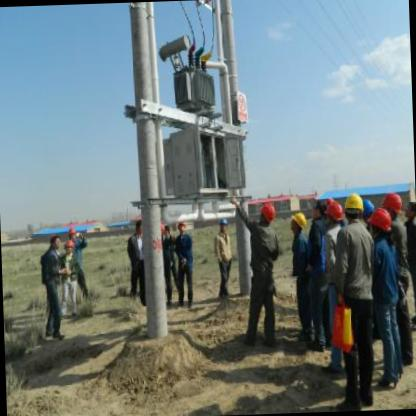head: (46, 230, 64, 252), (401, 198, 416, 222)
helmet: (368, 206, 394, 242), (342, 190, 367, 226), (379, 187, 404, 221), (256, 198, 278, 229), (284, 211, 308, 238), (326, 200, 344, 228), (214, 215, 232, 239), (62, 239, 76, 258)
